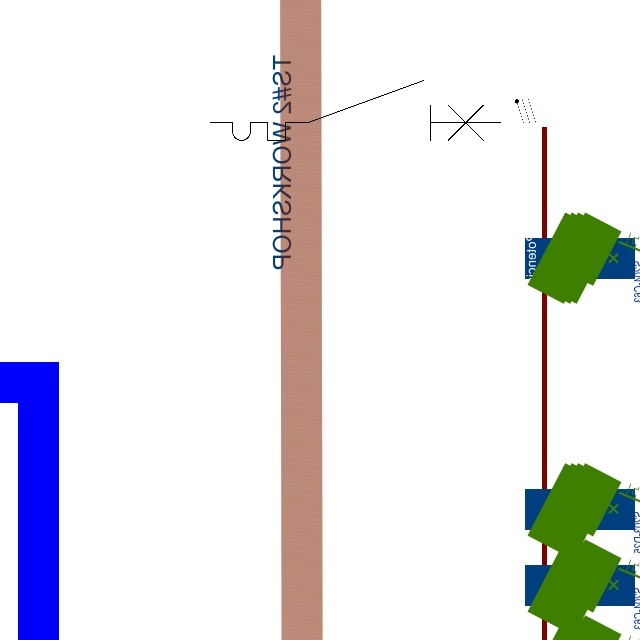interruptor_termomagnetico: (203, 73, 508, 148)
